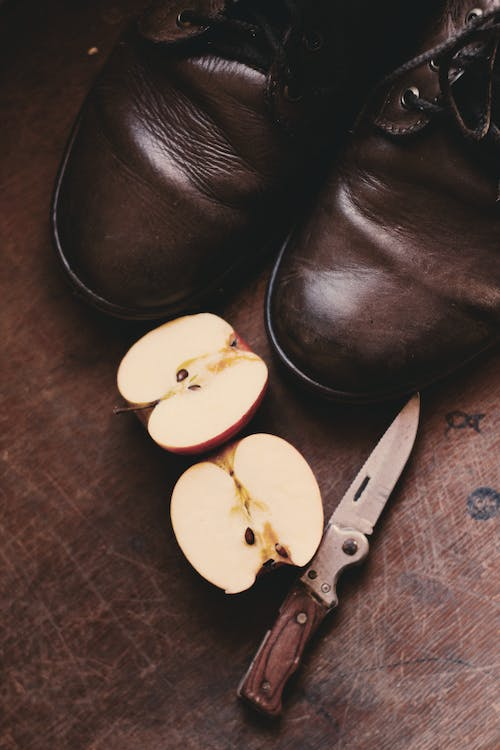knife: (232, 385, 424, 722)
